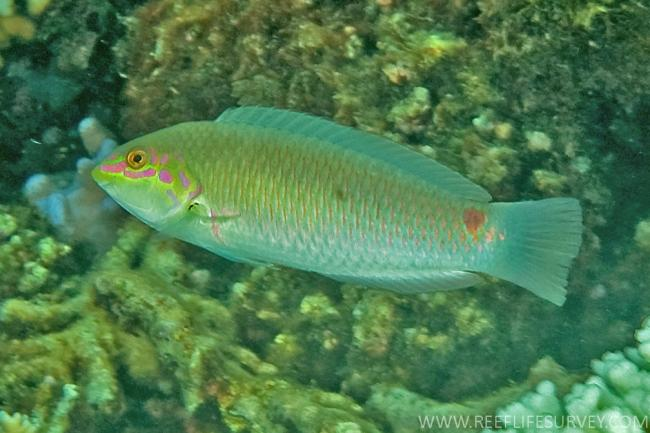fish: (91, 104, 584, 308)
